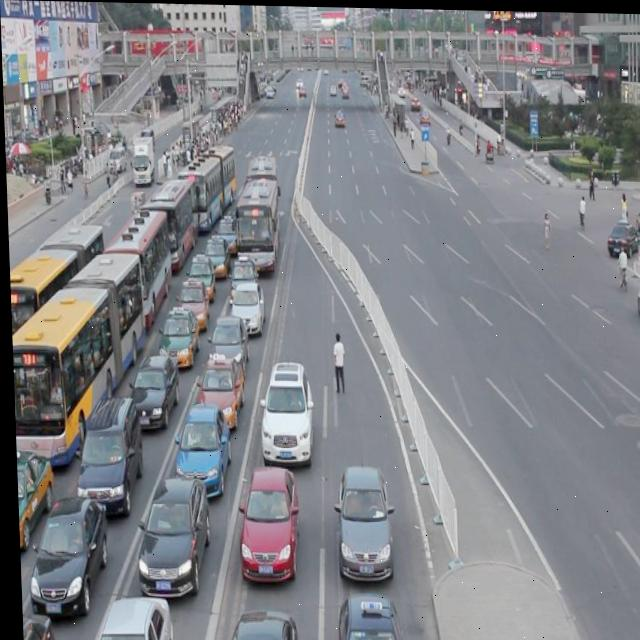car: (23, 503, 105, 620), (133, 485, 208, 604), (73, 403, 140, 520), (234, 473, 297, 584), (330, 472, 391, 583), (256, 368, 312, 469), (172, 411, 228, 501), (14, 455, 51, 558), (128, 361, 178, 435), (195, 361, 242, 434), (79, 603, 168, 640), (329, 597, 405, 640), (207, 320, 248, 385), (156, 312, 198, 372), (209, 615, 295, 640), (228, 290, 263, 337), (176, 286, 208, 332), (183, 257, 213, 302), (227, 260, 257, 303), (199, 239, 228, 281), (603, 216, 636, 252), (213, 219, 237, 260), (632, 274, 640, 320), (630, 201, 640, 235)
van: (8, 258, 146, 472), (6, 222, 105, 378), (96, 213, 172, 334), (175, 149, 236, 236), (140, 183, 196, 274), (233, 184, 278, 275), (244, 160, 279, 232)
